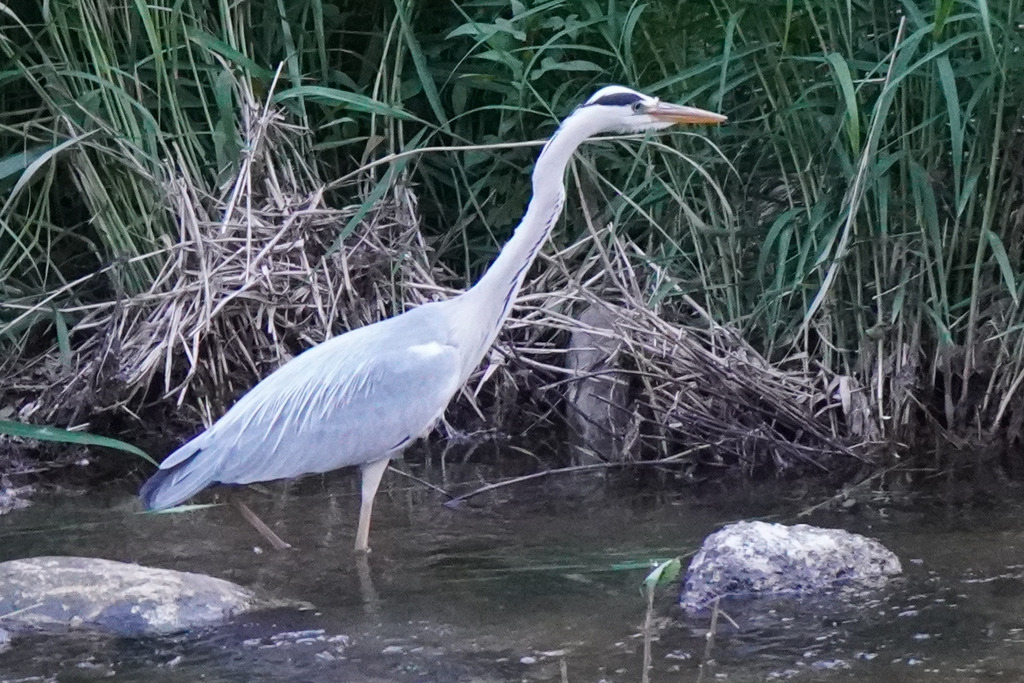heron: (119, 81, 728, 559)
